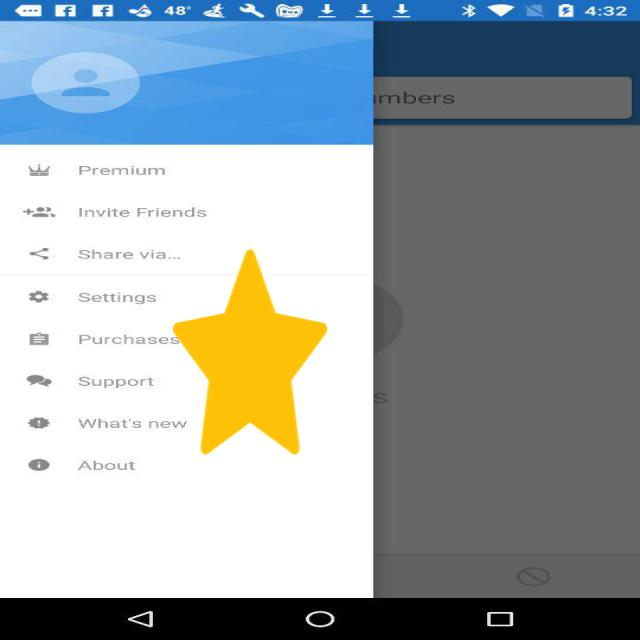forced continuity: (173, 249, 327, 455)
